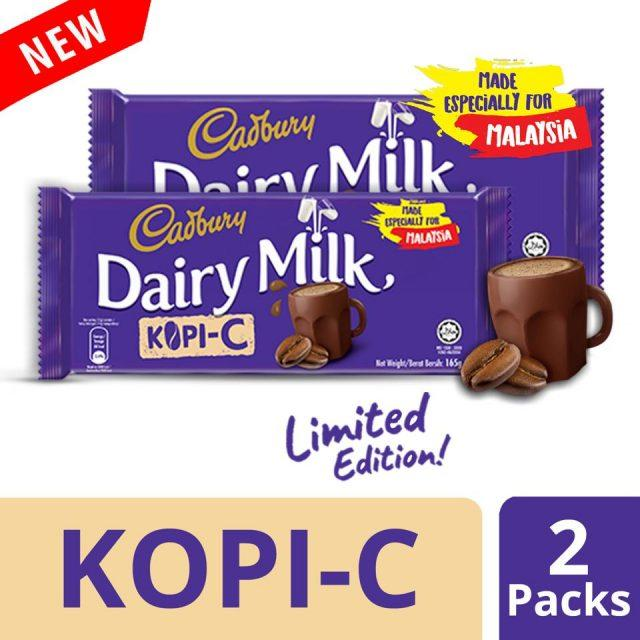cadbury: (31, 186, 504, 384)
